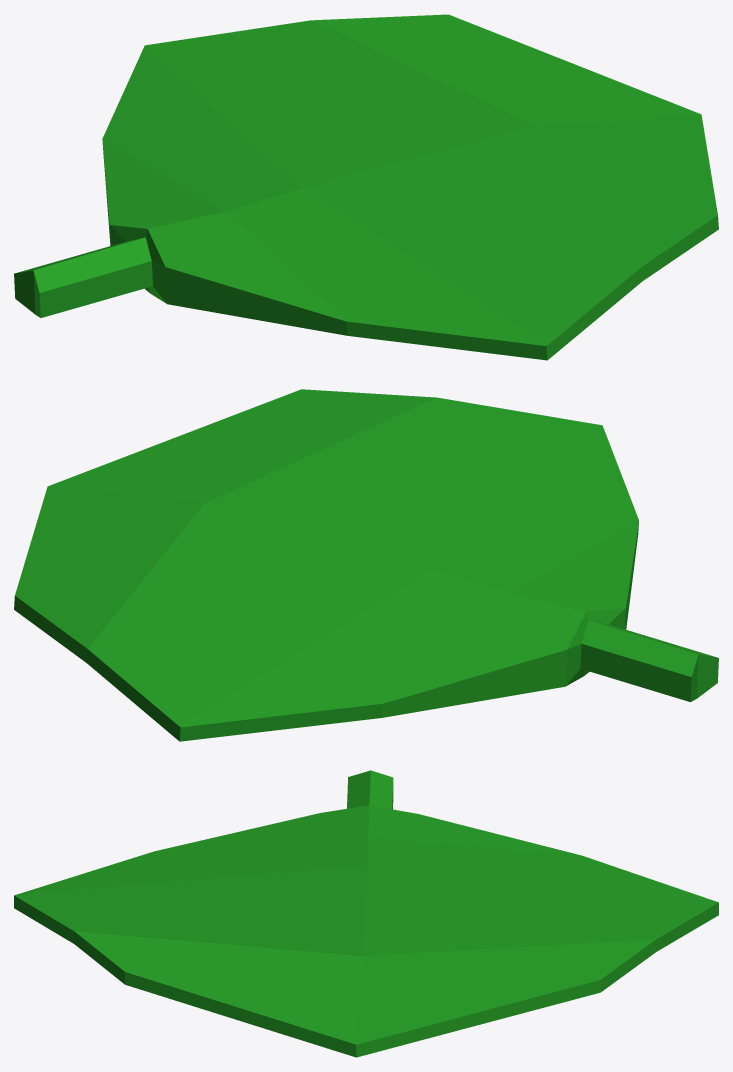
File: CarrotLeaf.fbx
3 views of the same model, one above another, from view 1: azimuth 30°, elevation 25°; view 2: azimuth 150°, elevation 25°; view 3: azimuth 270°, elevation 25° (orthographic). The views are drawn at different scales.
Visible parts, largest first — view 1: Leaf; view 2: Leaf; view 3: Leaf.
Part boxes in pixels (x1,y1,x2,y2): Leaf: (14, 14, 718, 360); Leaf: (14, 389, 718, 741); Leaf: (14, 770, 718, 1057).
Bounding box in the file's own units: 32.83 × 3.72 × 35.09.
